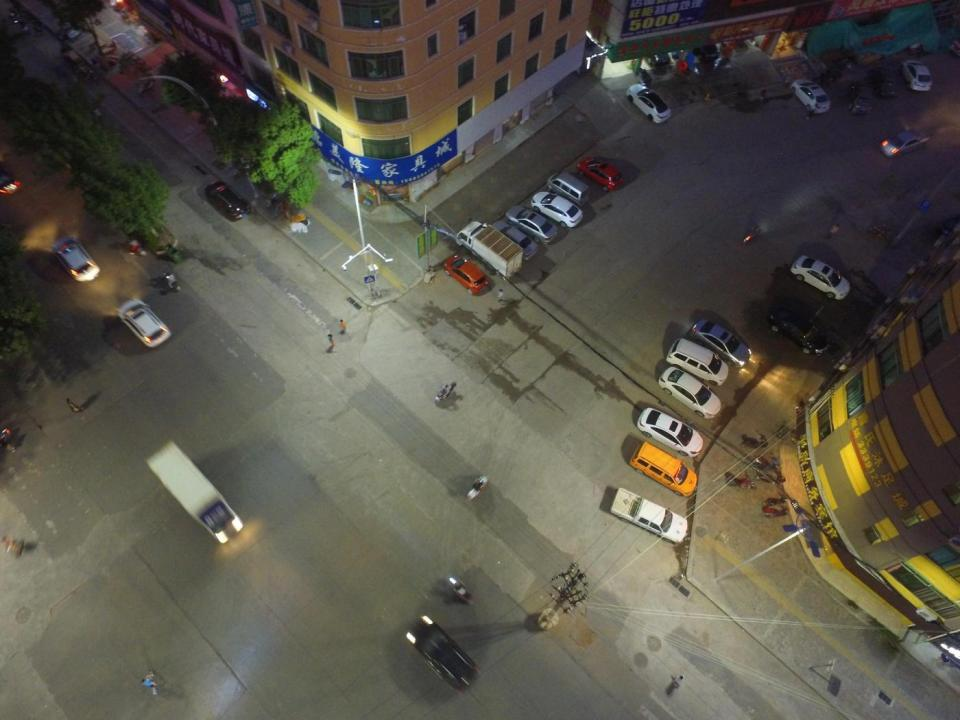car: (404, 614, 482, 696), (658, 365, 722, 419), (636, 407, 704, 457), (688, 318, 753, 368), (767, 306, 832, 356), (789, 254, 852, 301), (116, 298, 172, 349), (51, 234, 100, 282), (487, 219, 540, 262), (506, 204, 558, 245), (530, 190, 584, 228), (204, 180, 252, 221), (444, 254, 490, 296), (625, 83, 673, 123), (576, 156, 625, 192), (878, 127, 930, 158), (790, 77, 832, 114), (899, 58, 933, 92), (869, 65, 901, 99), (643, 34, 671, 66), (693, 28, 721, 60), (848, 84, 875, 116)
truck: (143, 438, 245, 545), (610, 487, 688, 544), (455, 221, 523, 280)
van: (628, 440, 699, 497), (665, 337, 730, 387), (545, 171, 593, 208)
